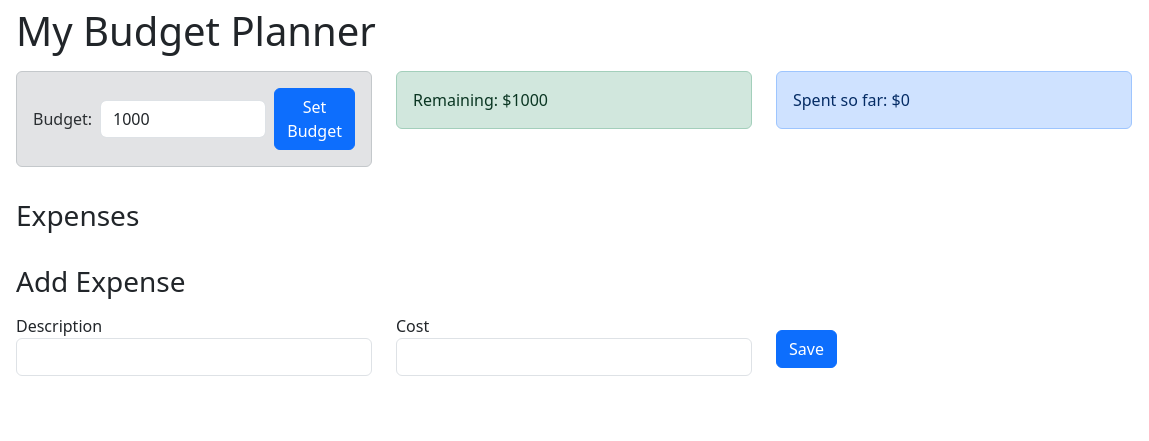
Test: create expense
Type "New Expense" into the field with test id "name" at x=194, y=357, box [16,338,372,376]
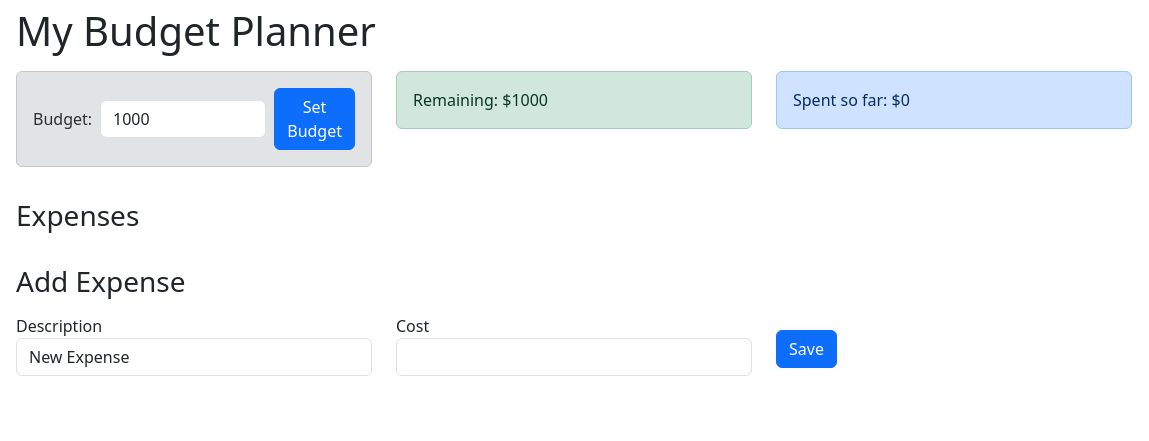
Type "100" into the field with test id "cost" at x=574, y=357, box [396,338,752,376]
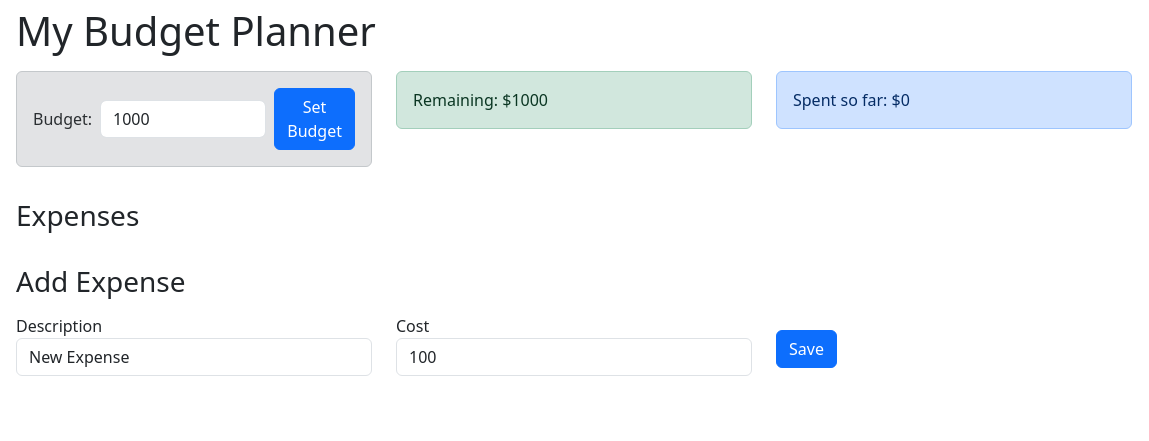
Click the button "Save" at x=806, y=349, box [776,330,837,368]
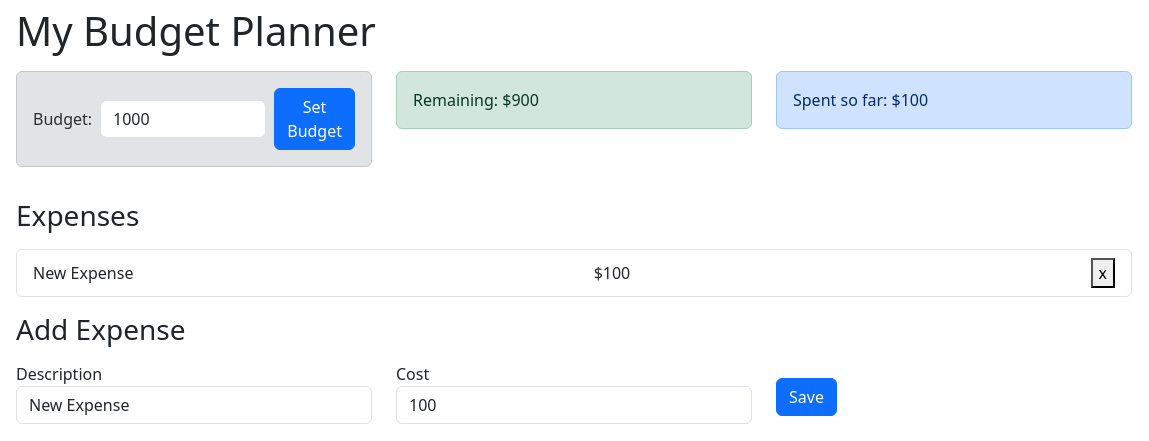
Expected: the text "New Expense" is shown, [33,261,133,285]
Expected: the text "Remaining: $900" is shown, [413,89,539,111]
Expected: the text "Spent so far: $100" is shown, [793,89,928,111]
